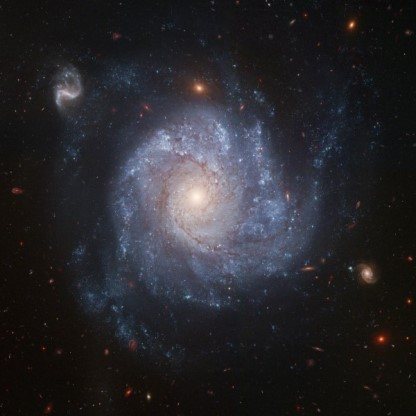NGC 1309: (56, 64, 400, 354)
